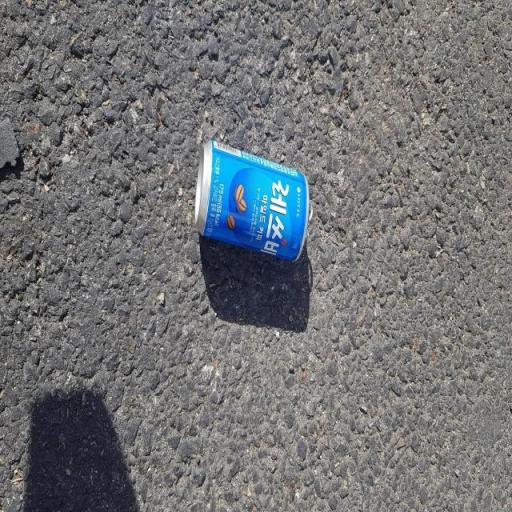metal: (188, 122, 323, 292)
